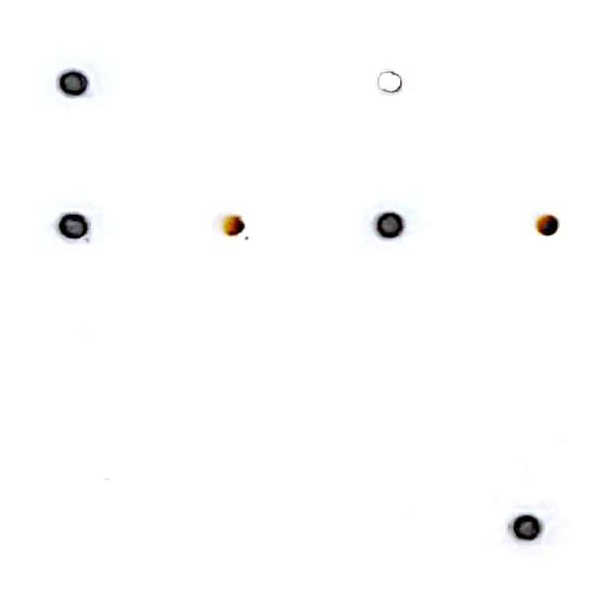abnormal: (369, 64, 429, 105)
cancer: (41, 191, 122, 262), (501, 491, 573, 566), (359, 195, 420, 256), (49, 57, 119, 110)
normal: (198, 184, 279, 256), (523, 211, 579, 260)
